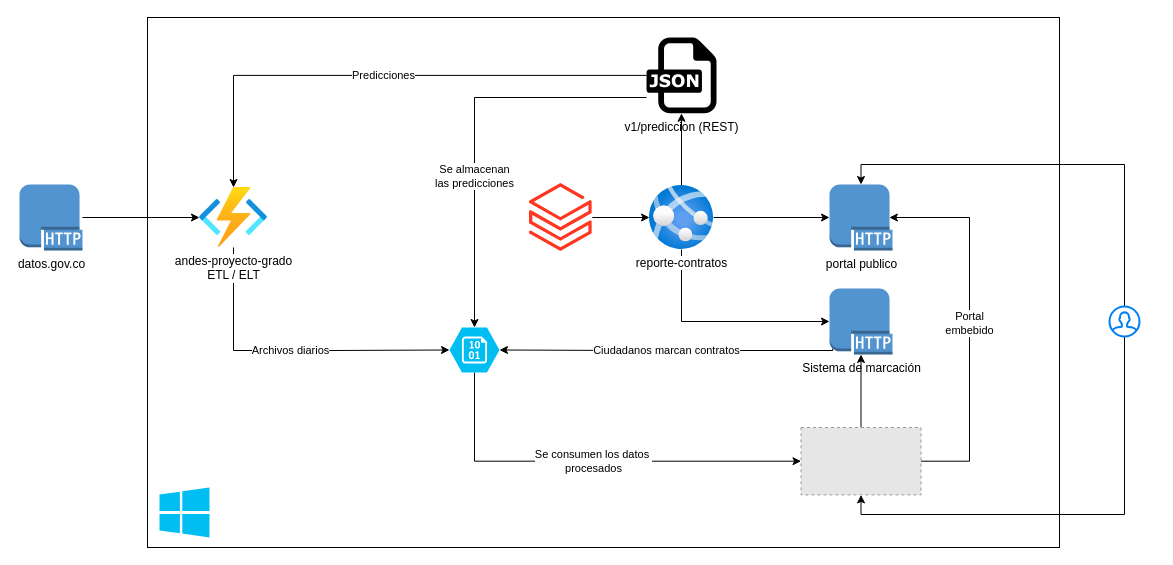
This 1173x565 diagram has some shape labels left out. Grey dashed boxes stand in for pictures. Each missing label, with the centre of its shape:
Azure BlobStorage: point 474,349
Ciudadano preocupado: point 1124,321
Entrenamiento notebooks: point 560,217
